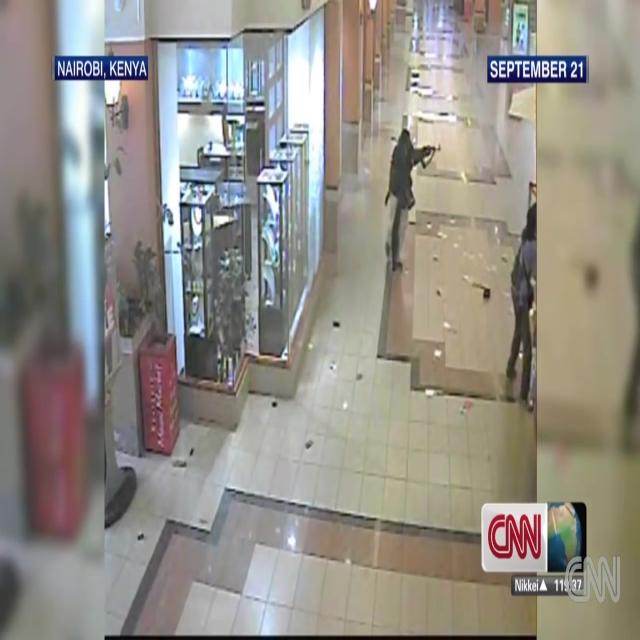Weapon: (400, 140, 443, 186), (523, 263, 544, 317)
